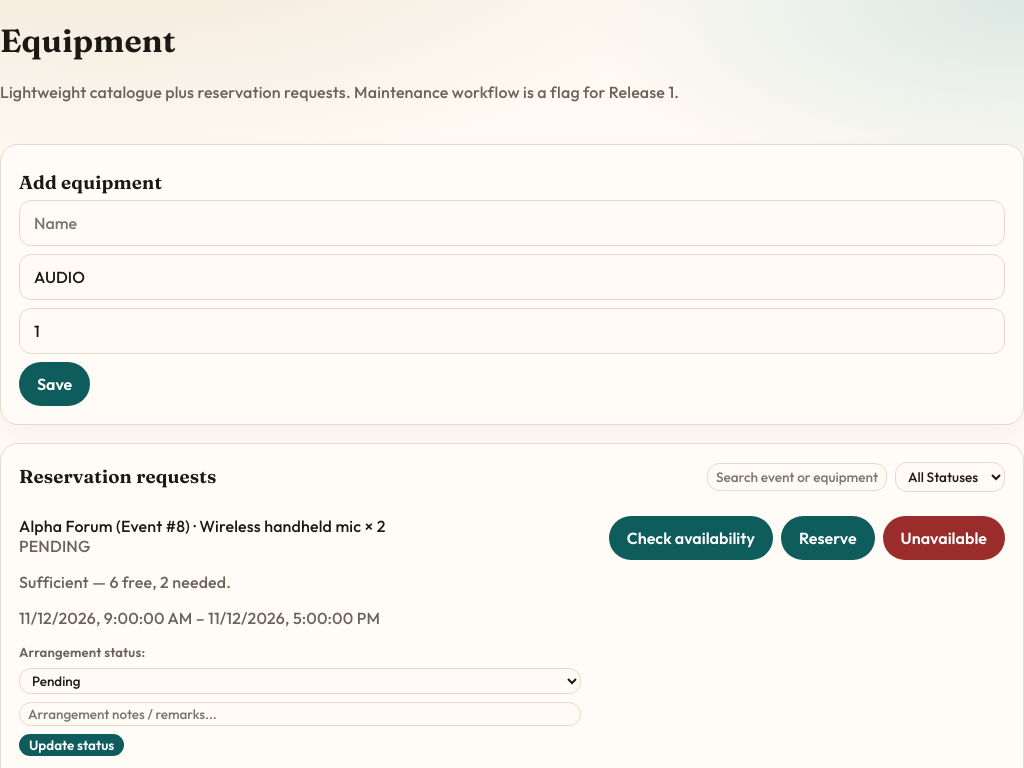
Test: SCRUM-48 Technical Support manages equipment requests › AC1: filters requests by status and searches by event
Expected: the text "Alpha Forum (Event #8) · Wireless handheld mic × 2" is shown, [19,516,386,536]
Select "Ready" in the dropdown named "Filter by status" at (950, 477), box [895,462,1005,492]
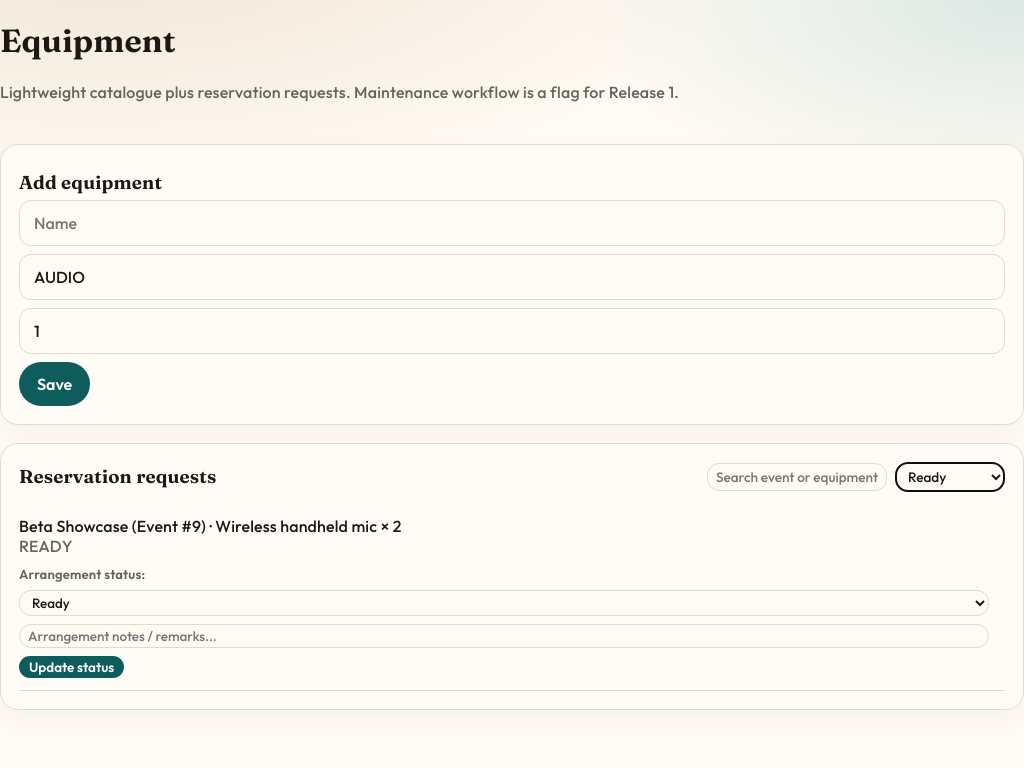
Expected: the text "Beta Showcase (Event #9) · Wireless handheld mic × 2" is shown, [19,516,402,536]
Expected: the text "Alpha Forum" is gone
